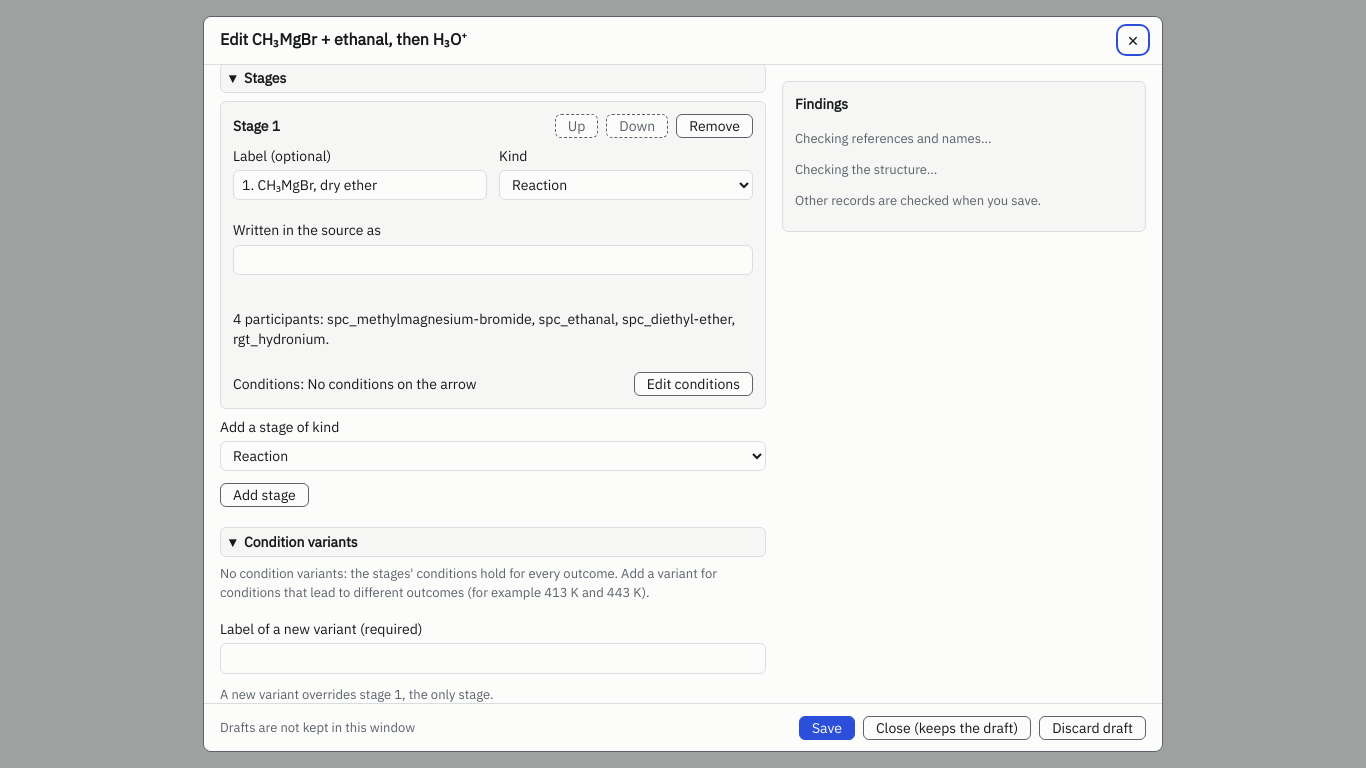
Test: the summary line of a stage › follows the edit at once (one line, the same words)
(page scrolled)
Click the button with aria-label "Edit conditions of stage 1" at point(693, 384), box x1=634 y1=372 x2=753 y2=396
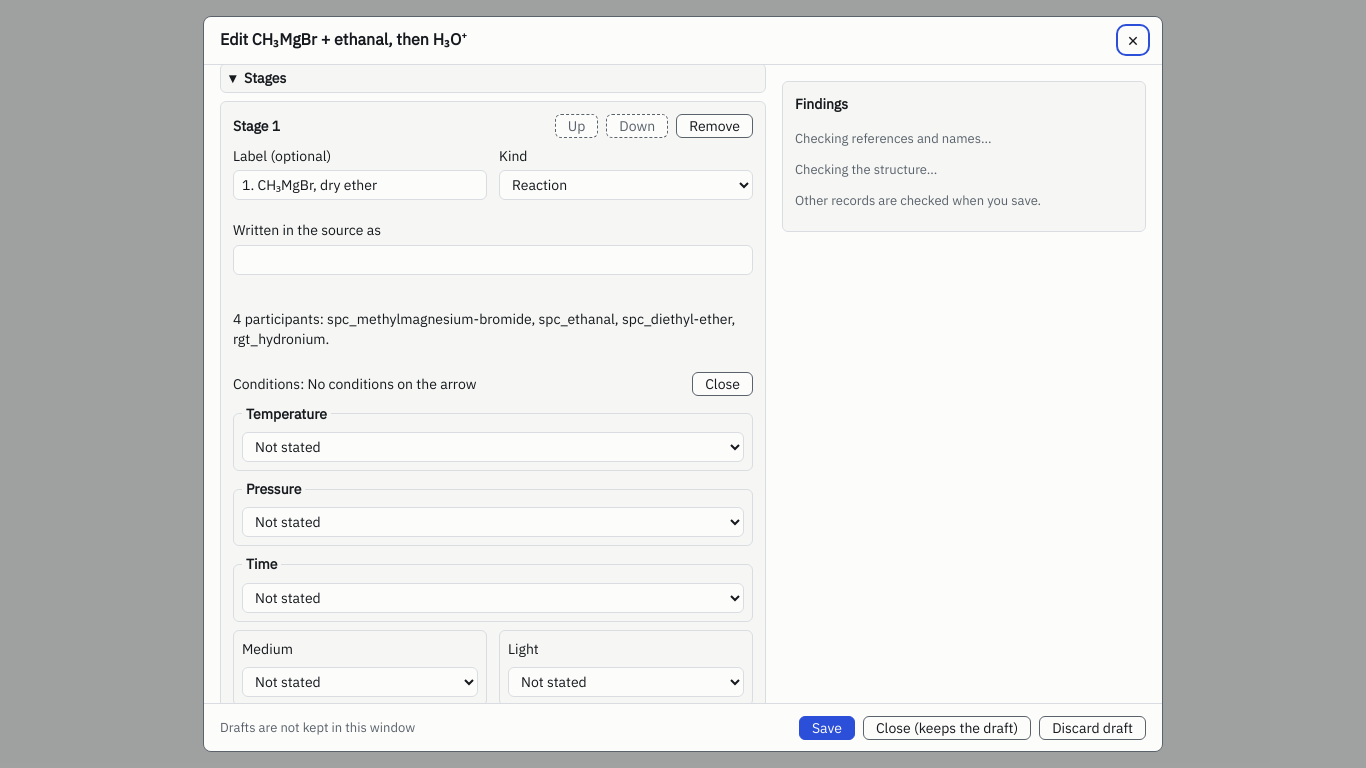
Select "acidic" in the dropdown named "Medium of stage 1" at point(360, 682), box x1=242 y1=667 x2=478 y2=697
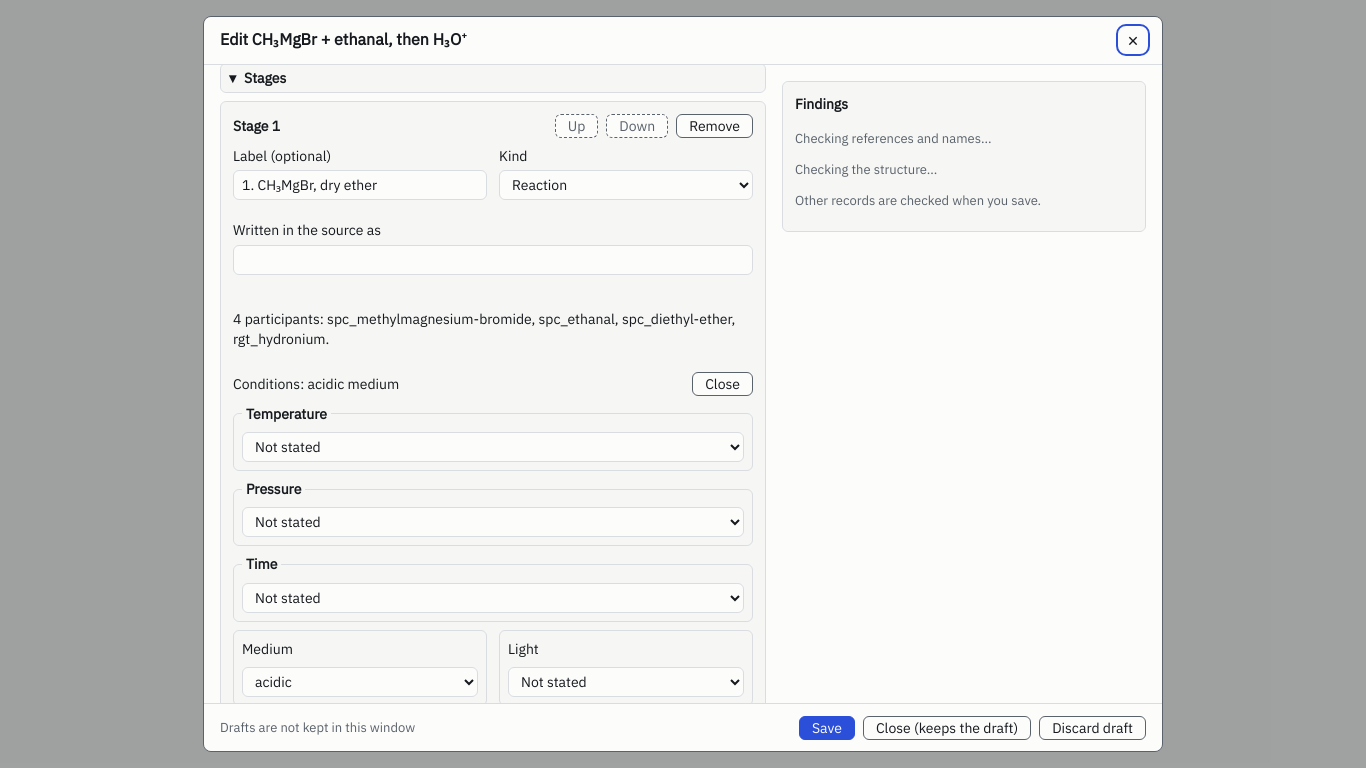
Check: the text with test id "stage-conditions" reads "Conditions: acidic medium", box x1=233 y1=374 x2=399 y2=392
